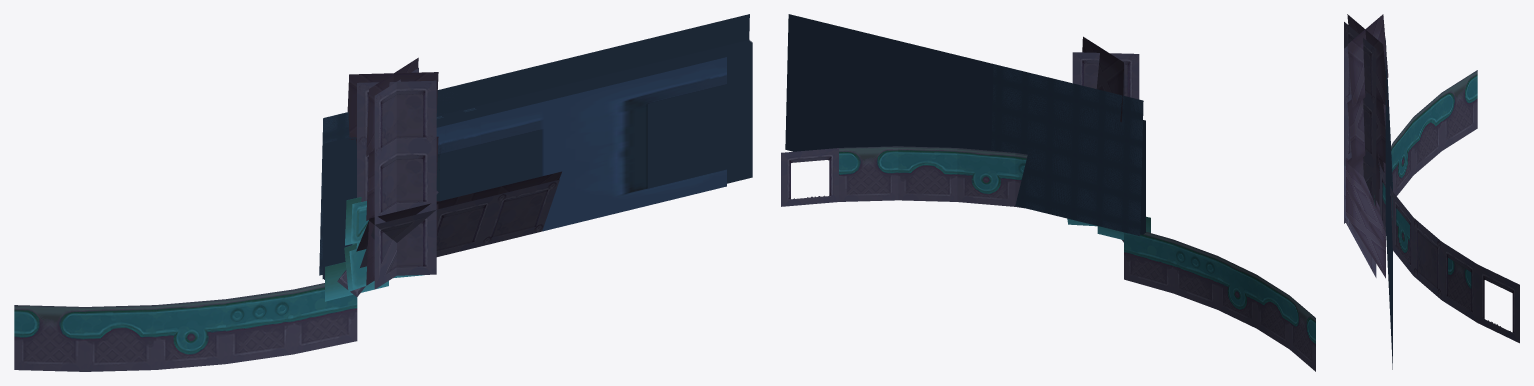
The model's file is floor_base.glb.
The picture shows the model from 3 angles, left to right: view 1: azimuth 30°, elevation 25°; view 2: azimuth 150°, elevation 25°; view 3: azimuth 270°, elevation 25°; orthographic projection. The views are drawn at different scales.
Visible parts, largest first — view 1: rsrc.world.tileset.clockworks_freeze.floor.floor_base-Varian (×22); view 2: rsrc.world.tileset.clockworks_freeze.floor.floor_base-Varian (×8); view 3: rsrc.world.tileset.clockworks_freeze.floor.floor_base-Varian (×17).
Part boxes in pixels (x1=…): rsrc.world.tileset.clockworks_freeze.floor.floor_base-Varian (×22): x1=14, y1=14, x2=752, y2=371; rsrc.world.tileset.clockworks_freeze.floor.floor_base-Varian (×8): x1=781, y1=14, x2=1315, y2=371; rsrc.world.tileset.clockworks_freeze.floor.floor_base-Varian (×17): x1=1344, y1=14, x2=1519, y2=369.
Size of the model in its own units: 11.12 by 4.11 by 2.74.
Materials: 11 (11 with a texture image).
